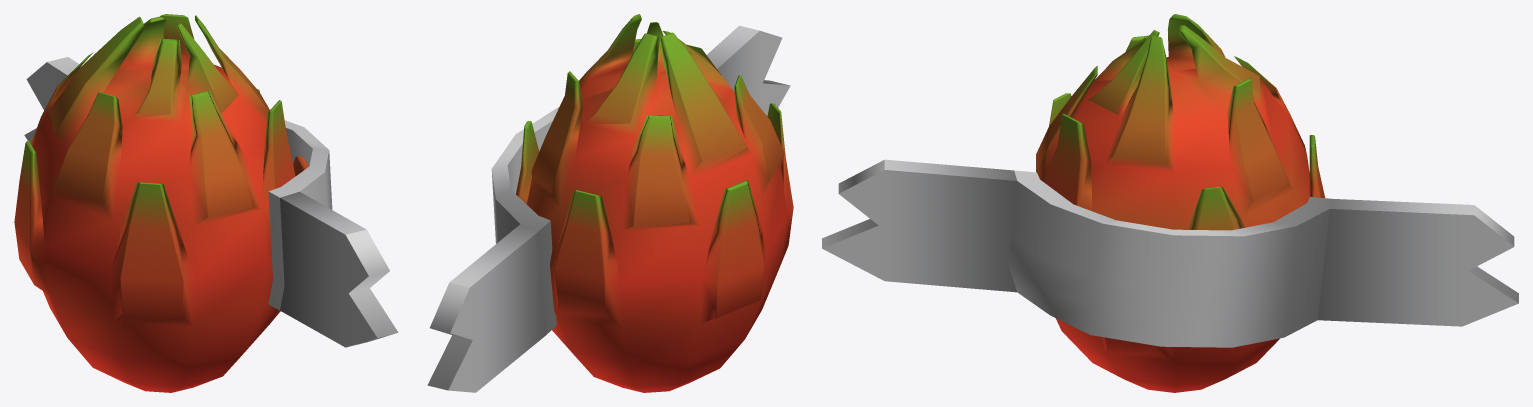
File: dragon.fbx
3 views of the same model, side by side, from view 1: azimuth 30°, elevation 25°; view 2: azimuth 150°, elevation 25°; view 3: azimuth 270°, elevation 25° (orthographic). The views are drawn at different scales.
Visible parts, largest first — view 1: dragon; view 2: dragon; view 3: dragon.
Boxes of the visible parts, x1=… form: dragon: x1=14, y1=14, x2=398, y2=392; dragon: x1=427, y1=14, x2=793, y2=392; dragon: x1=822, y1=14, x2=1518, y2=392.
Size of the model in its own units: 3.17 by 4.17 by 7.31.
